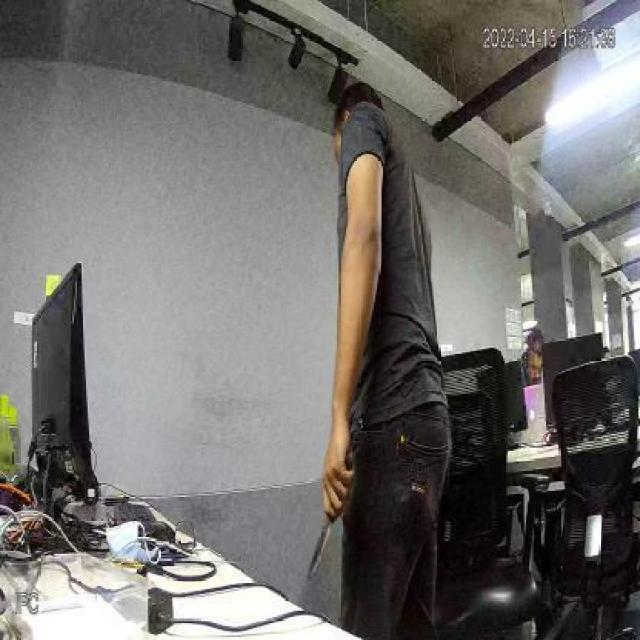knife: (293, 429, 350, 580)
